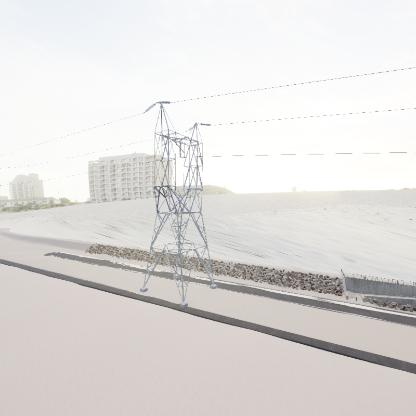tower: (138, 99, 219, 309)
